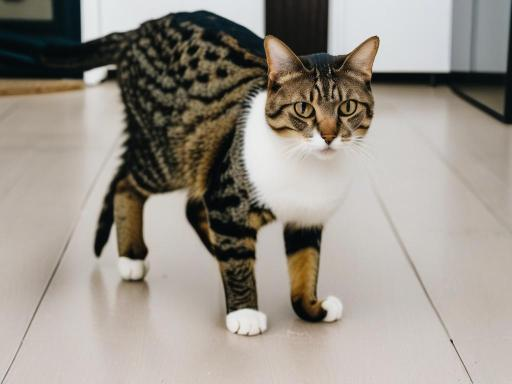cat_standing: (40, 11, 379, 336)
